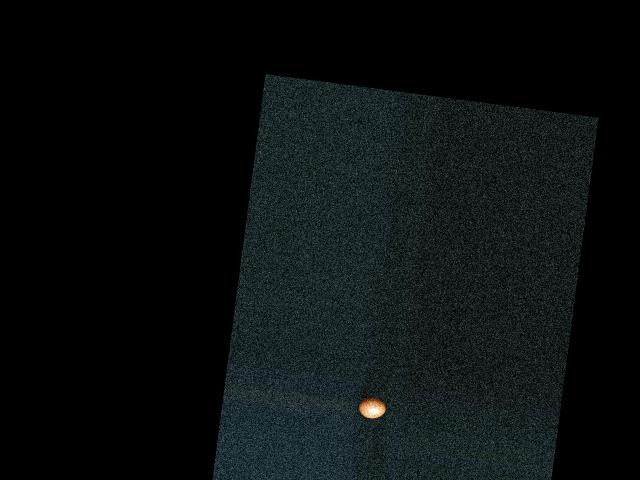egg: (357, 395, 386, 419)
